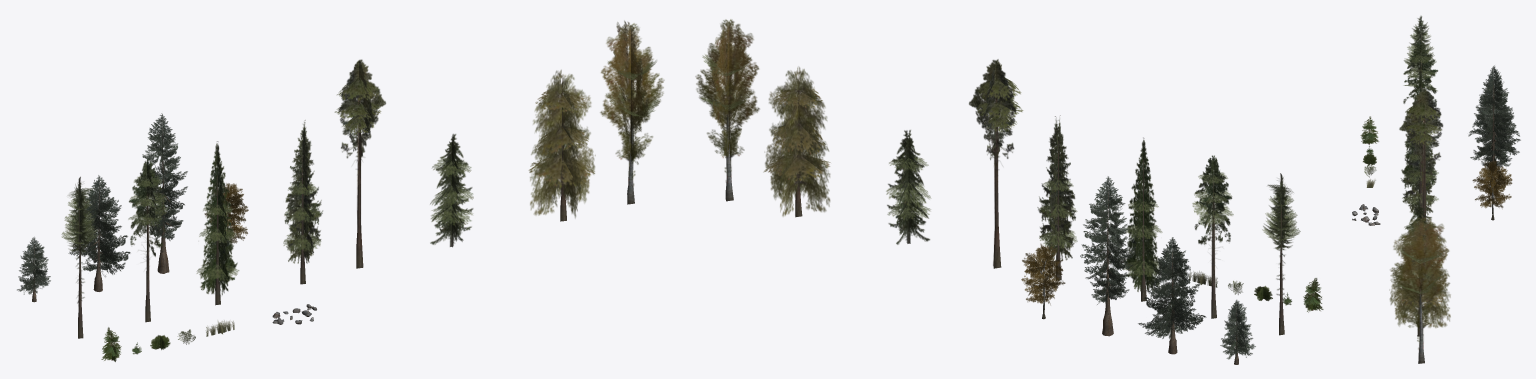
File: forest.glb
3 renders of one model, left to right at view 1: azimuth 30°, elevation 25°; view 2: azimuth 150°, elevation 25°; view 3: azimuth 270°, elevation 25°, orthographic. The views are drawn at different scales.
Parts seen in each view (by area): view 1: Background_Tree_Atlas.004, Background_Tree_Atlas.001, Background_Tree_Atlas, Background_Tree_Atlas.005, Background_Tree_Atlas.003, Tree_Branches_01, Tree_Branches_01.002, Background_Tree_Atlas.002, Background_Tree_Atlas.007, Background_Tree_Atlas.006, Tree_Branches_01.001, Tree_Branches_02; view 2: Background_Tree_Atlas.004, Background_Tree_Atlas.001, Tree_Branches_01, Background_Tree_Atlas.005, Tree_Branches_01.002, Background_Tree_Atlas, Background_Tree_Atlas.003, Background_Tree_Atlas.002, Background_Tree_Atlas.007, Background_Tree_Atlas.006, Tree_Branches_02, Tree_Branches_01.001 (+1 smaller); view 3: Background_Tree_Atlas.001, Background_Tree_Atlas.004, Tree_Branches_01, Background_Tree_Atlas.005, Background_Tree_Atlas.003, Tree_Branches_02, Tree_Branches_01.002, Background_Tree_Atlas.007, Background_Tree_Atlas.006, Background_Tree_Atlas, Background_Tree_Atlas.002, Background_Tree_Atlas.009 (+1 smaller).
Boxes of the visible parts, x1,y1,x2,y2 form: Background_Tree_Atlas.004: (529, 70, 595, 221); Background_Tree_Atlas.001: (600, 20, 664, 204); Background_Tree_Atlas: (196, 141, 239, 305); Background_Tree_Atlas.005: (334, 59, 385, 268); Background_Tree_Atlas.003: (283, 120, 322, 284); Tree_Branches_01: (140, 113, 187, 240); Tree_Branches_01.002: (68, 175, 130, 276); Background_Tree_Atlas.002: (430, 134, 473, 247); Background_Tree_Atlas.007: (128, 159, 168, 322); Background_Tree_Atlas.006: (61, 176, 98, 338); Tree_Branches_01.001: (17, 237, 50, 294); Tree_Branches_02: (204, 183, 248, 243); Background_Tree_Atlas.004: (764, 67, 830, 217); Background_Tree_Atlas.001: (695, 19, 759, 201); Tree_Branches_01: (1080, 176, 1135, 304); Background_Tree_Atlas.005: (969, 59, 1023, 268); Tree_Branches_01.002: (1138, 237, 1206, 339); Background_Tree_Atlas: (1123, 137, 1162, 301); Background_Tree_Atlas.003: (1037, 115, 1077, 280); Background_Tree_Atlas.002: (886, 130, 930, 244); Background_Tree_Atlas.007: (1192, 155, 1233, 318); Background_Tree_Atlas.006: (1262, 173, 1300, 335); Tree_Branches_02: (1021, 243, 1065, 304); Tree_Branches_01.001: (1220, 300, 1255, 359); Background_Tree_Atlas.001: (1390, 217, 1449, 363); Background_Tree_Atlas.004: (1389, 214, 1450, 336); Tree_Branches_01: (1475, 65, 1512, 167); Background_Tree_Atlas.005: (1399, 88, 1443, 217); Background_Tree_Atlas.003: (1400, 117, 1438, 215); Tree_Branches_02: (1472, 160, 1512, 208); Tree_Branches_01.002: (1468, 81, 1520, 161); Background_Tree_Atlas.007: (1403, 40, 1437, 113); Background_Tree_Atlas.006: (1404, 16, 1436, 80); Background_Tree_Atlas: (1401, 69, 1438, 191); Background_Tree_Atlas.002: (1401, 200, 1436, 265); Background_Tree_Atlas.009: (1360, 116, 1378, 144).
Size of the model in its own units: 101 by 33.75 by 30.38.
6 materials, 6 textured.
